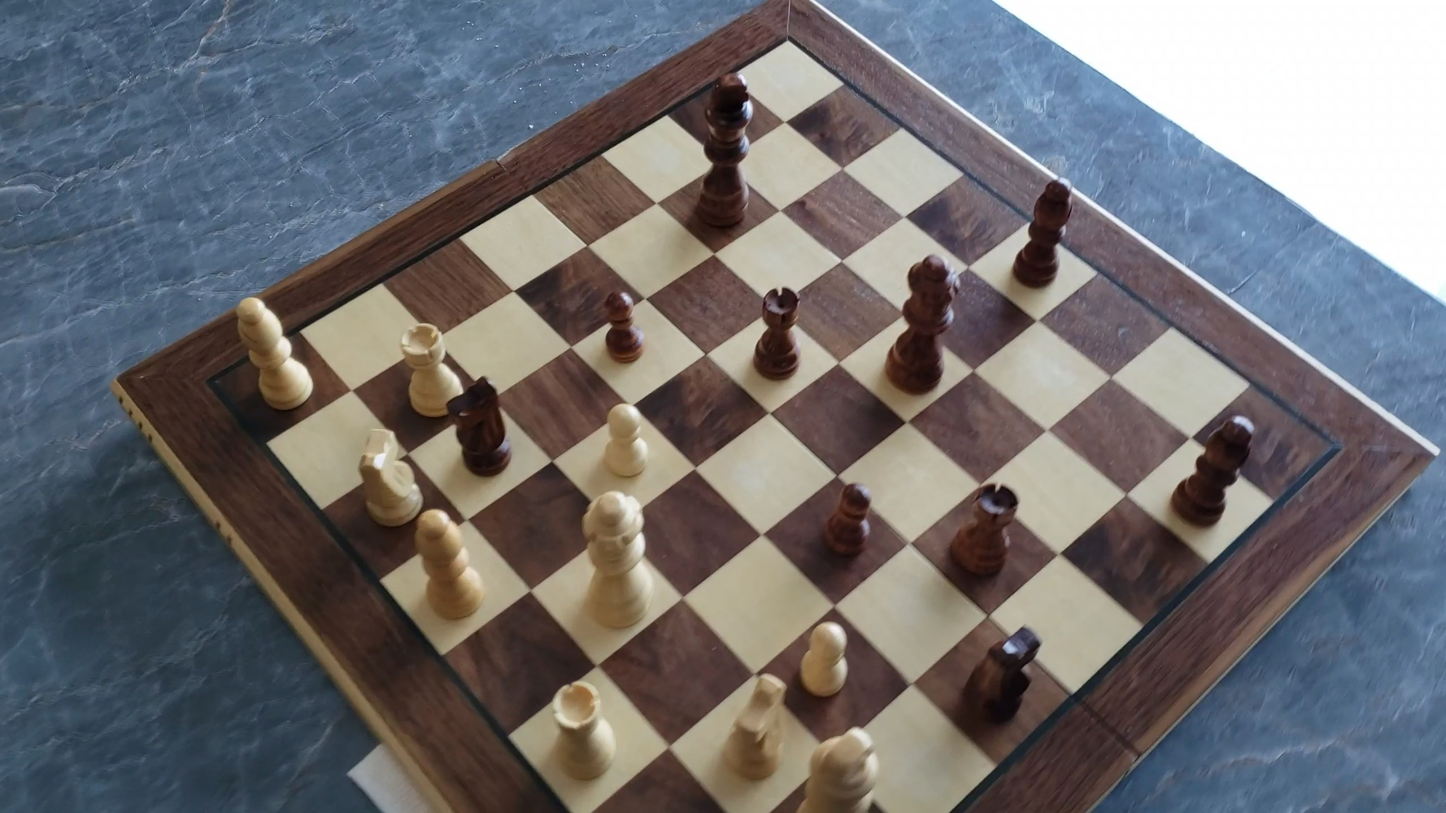black-bishop: (1170, 412, 1269, 526), (1011, 175, 1074, 290)
black-king: (673, 57, 781, 245)
black-knight: (959, 623, 1046, 727), (448, 373, 513, 477)
black-pawn: (821, 479, 876, 560), (599, 285, 645, 366)
black-queen: (885, 250, 959, 392)
black-rook: (947, 480, 1021, 580), (751, 283, 803, 381)
white-bishop: (230, 291, 317, 414), (410, 506, 489, 623)
white-king: (795, 723, 885, 812)
white-knight: (711, 664, 793, 784), (354, 427, 426, 530)
white-pawn: (794, 618, 855, 702), (596, 399, 655, 483)
white-queen: (575, 487, 658, 635)
white-rook: (546, 677, 622, 784), (398, 319, 465, 420)
